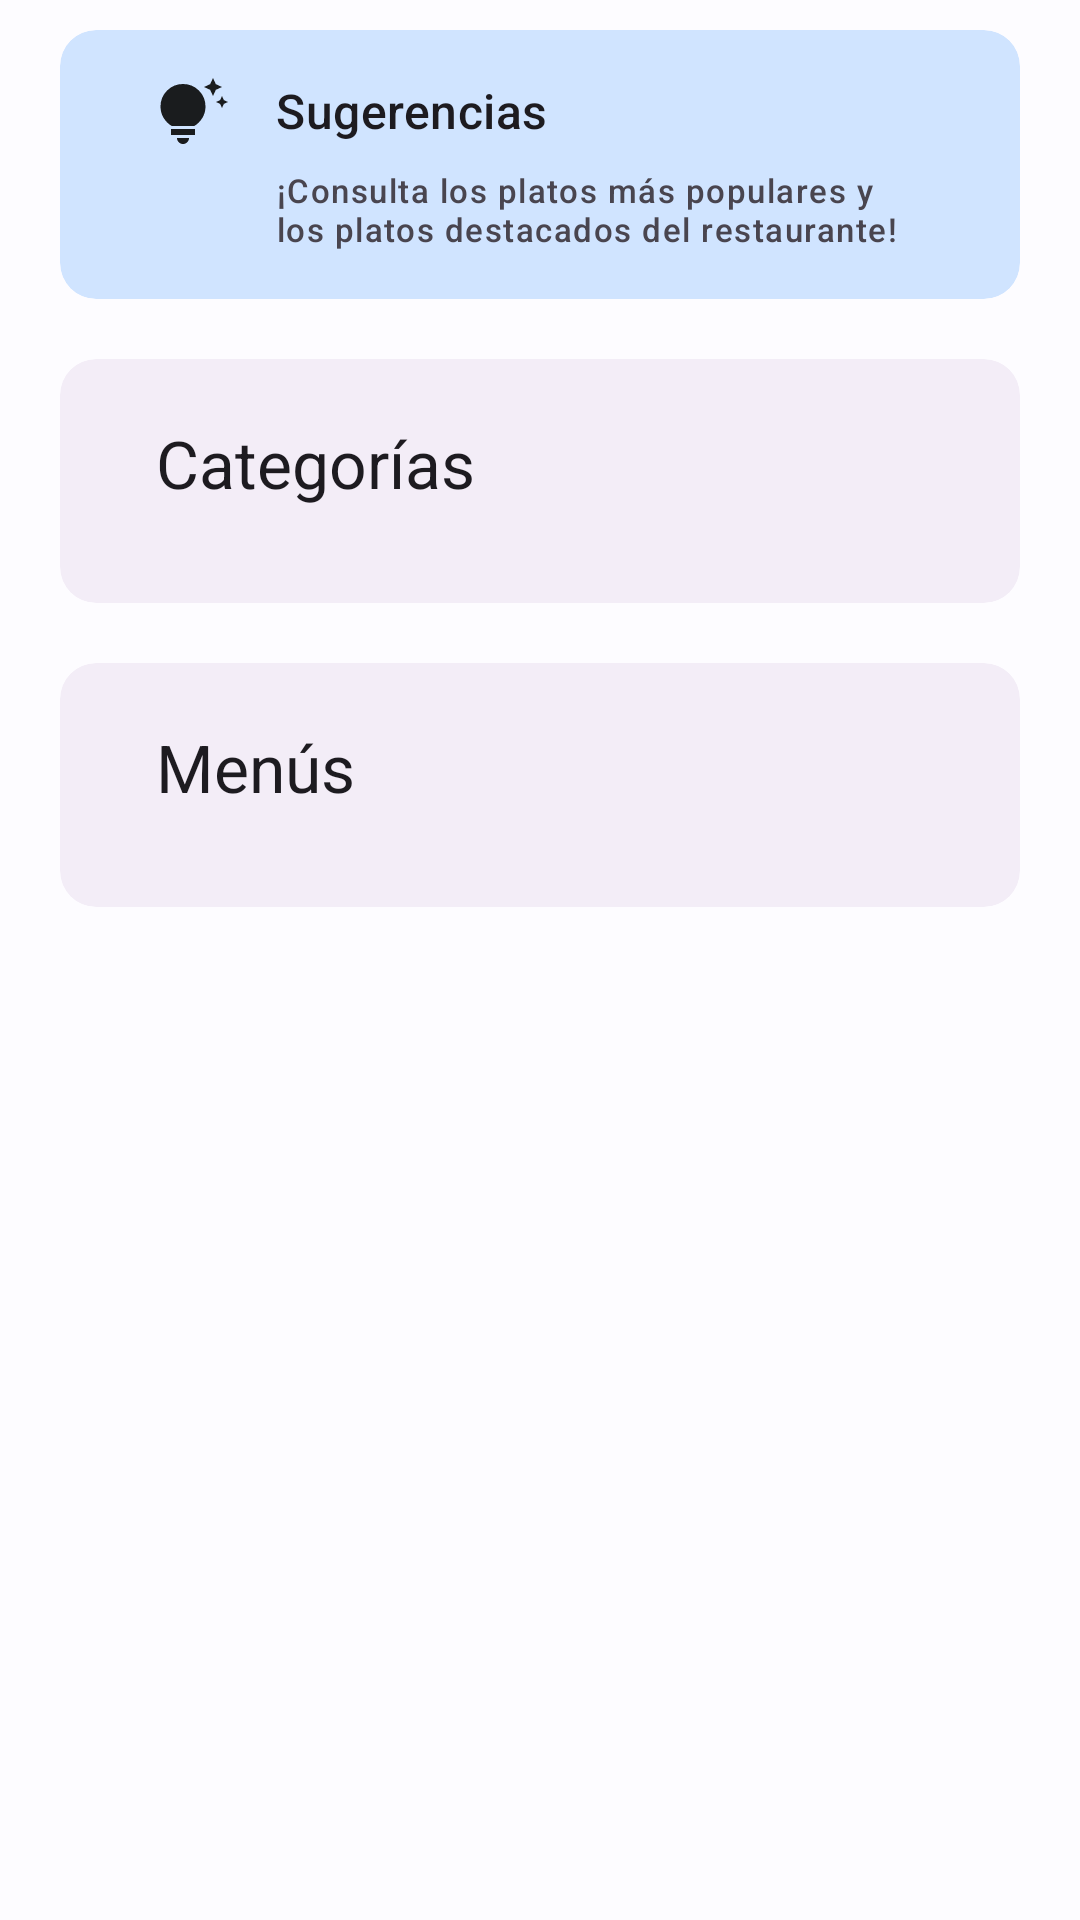

Screen size 1080w x 1920h. Icon name, then its box in pixels as (x1, y1, x2, y2):
suggestions: (160, 78, 228, 144)
